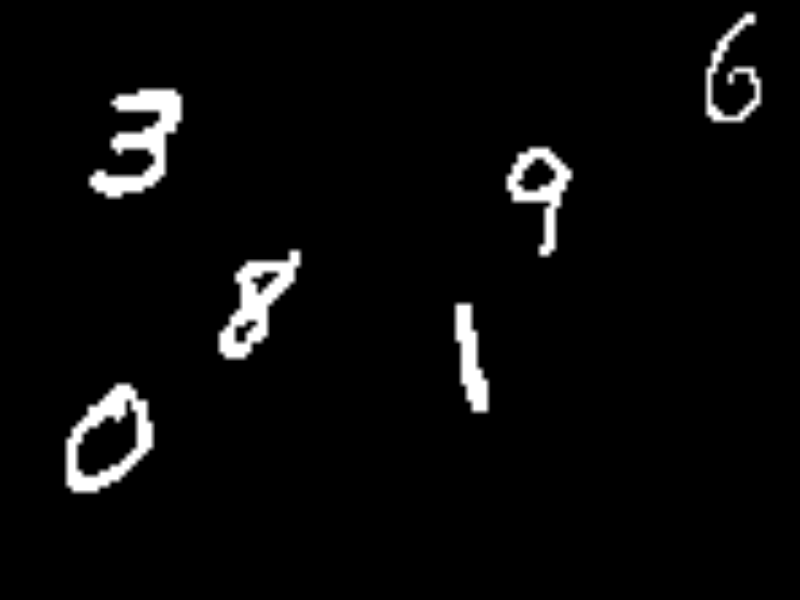person: (100, 100, 200, 200)
